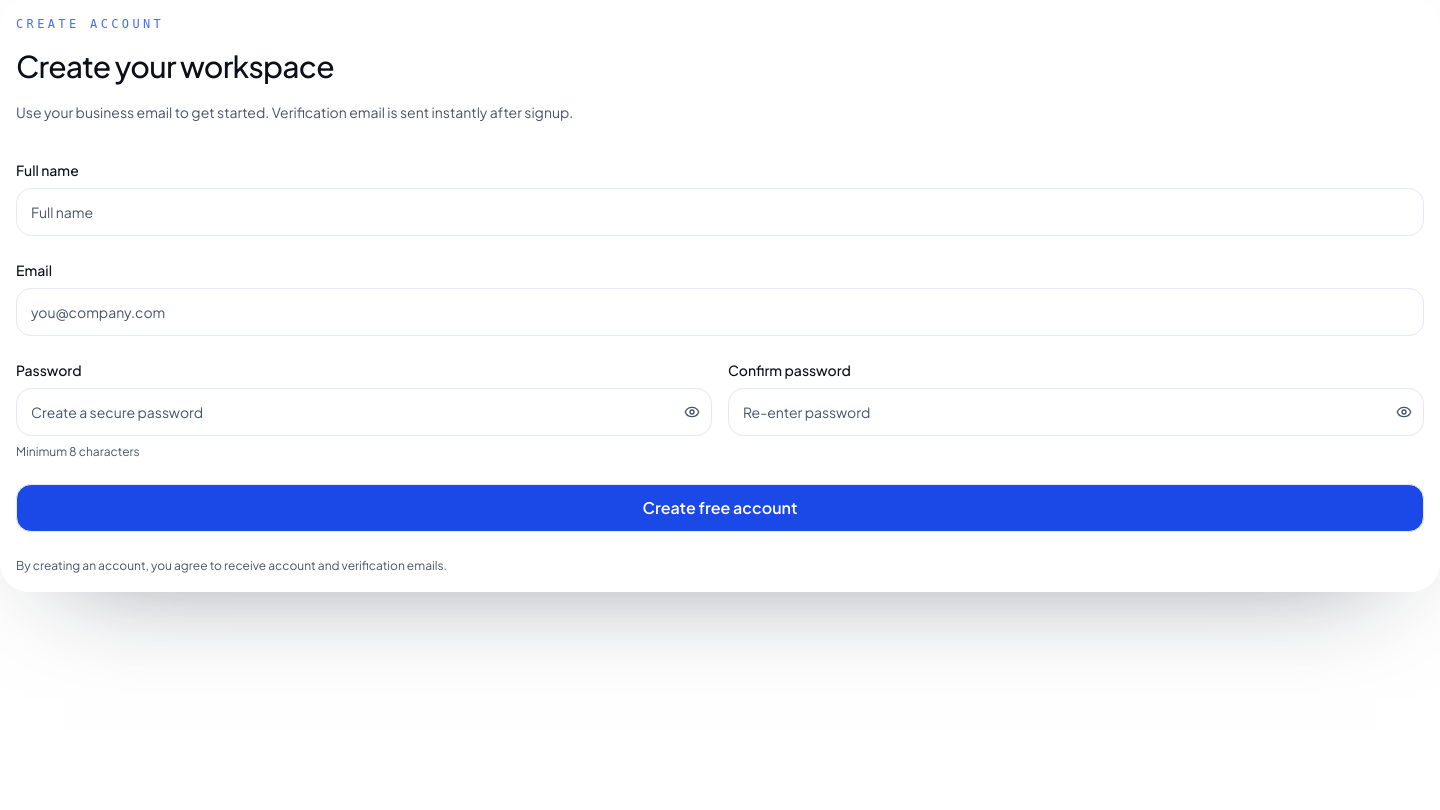
Test: Feature: User Registration › Scenario: Registration is blocked with a weak or incomplete password
The image size is (1440, 810).
Type "Weak Password" into the field labelled "Full name" at (720,212), box x1=16 y1=188 x2=1424 y2=236
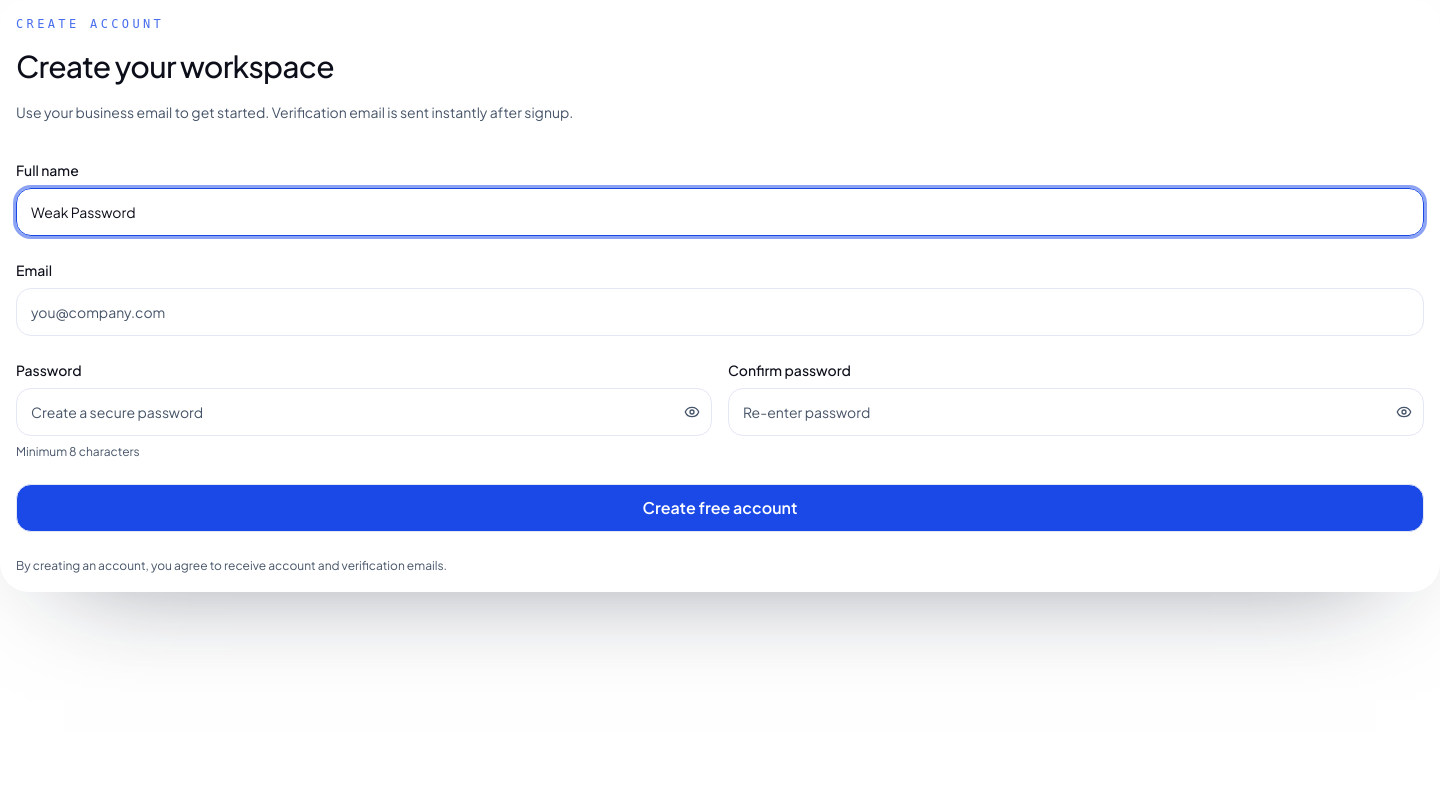
Type "weak@example.com" into the field labelled "Email" at (720,312), box x1=16 y1=288 x2=1424 y2=336
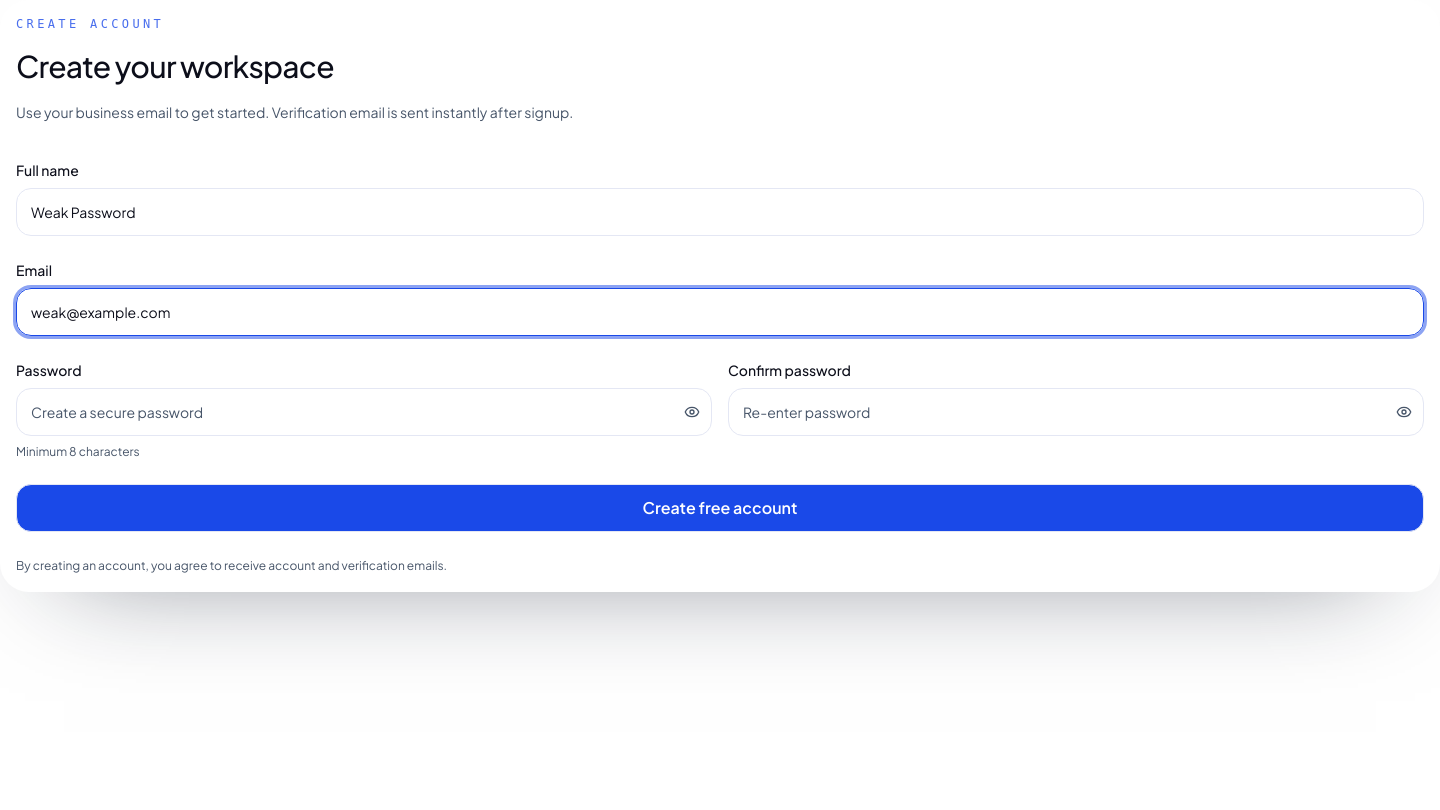
Type "weak" into the password field labelled "Password" at (364,412), box x1=16 y1=388 x2=712 y2=436
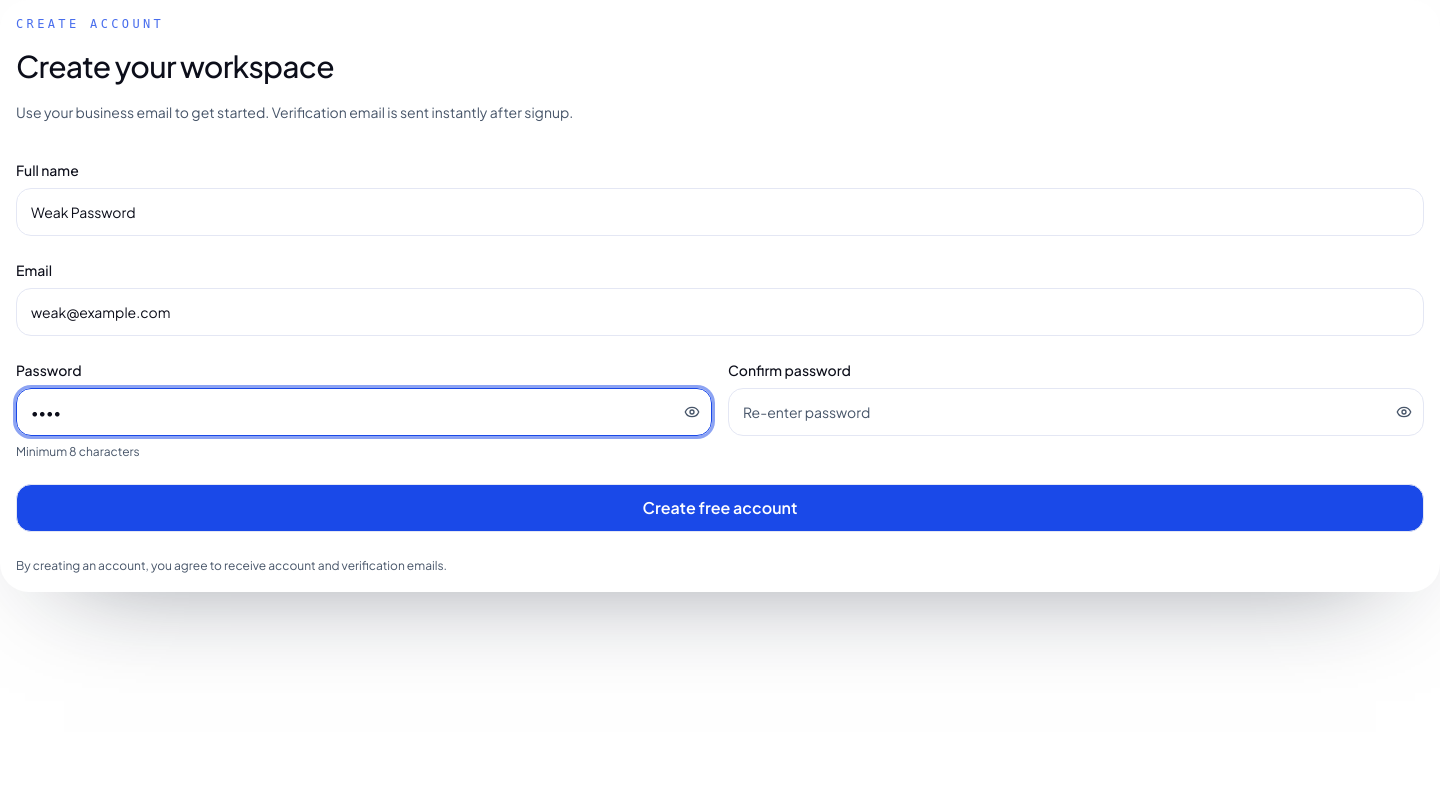
Type "weak" into the password field labelled "Confirm password" at (1076,412), box x1=728 y1=388 x2=1424 y2=436
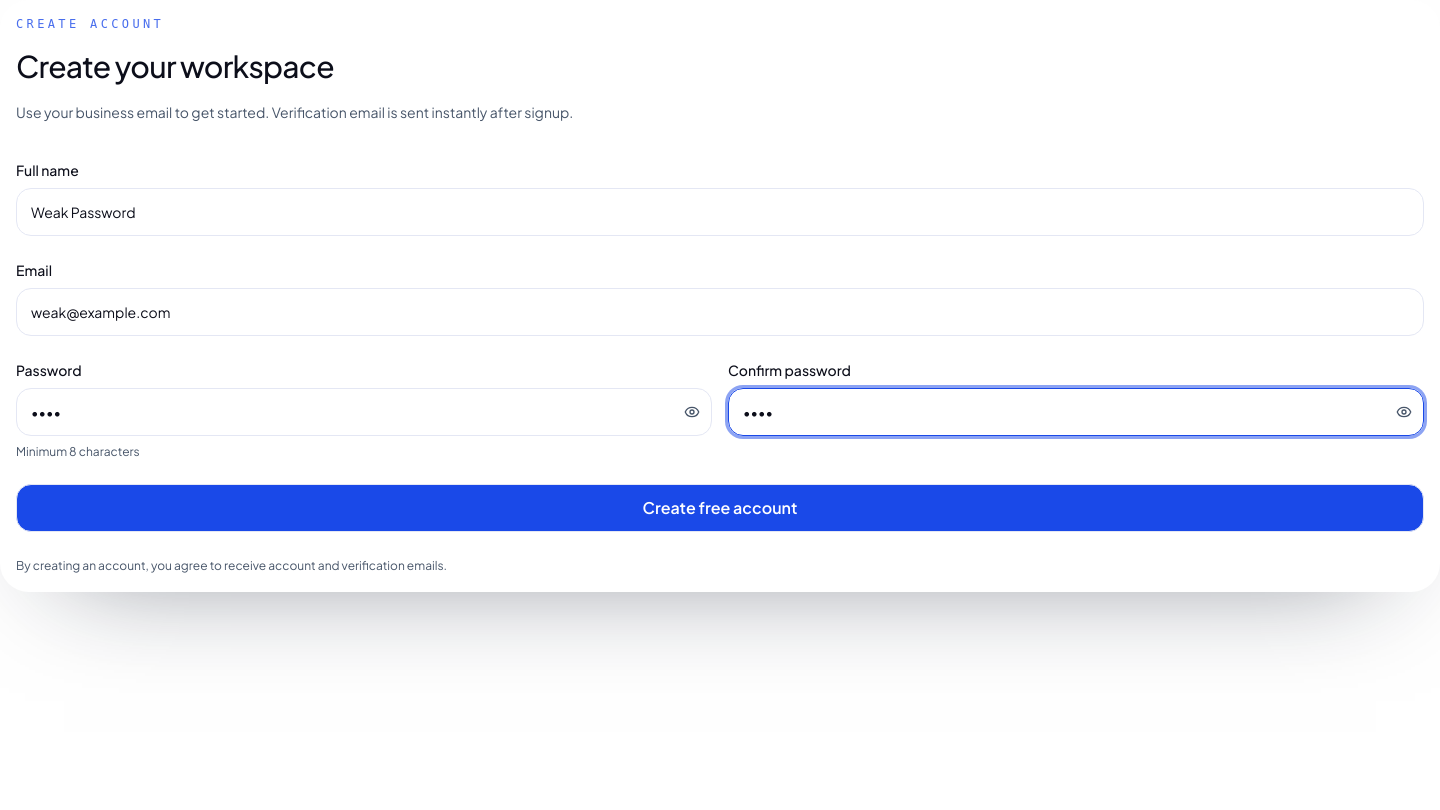
Click the button "Create free account" at (720,508), box x1=16 y1=484 x2=1424 y2=532
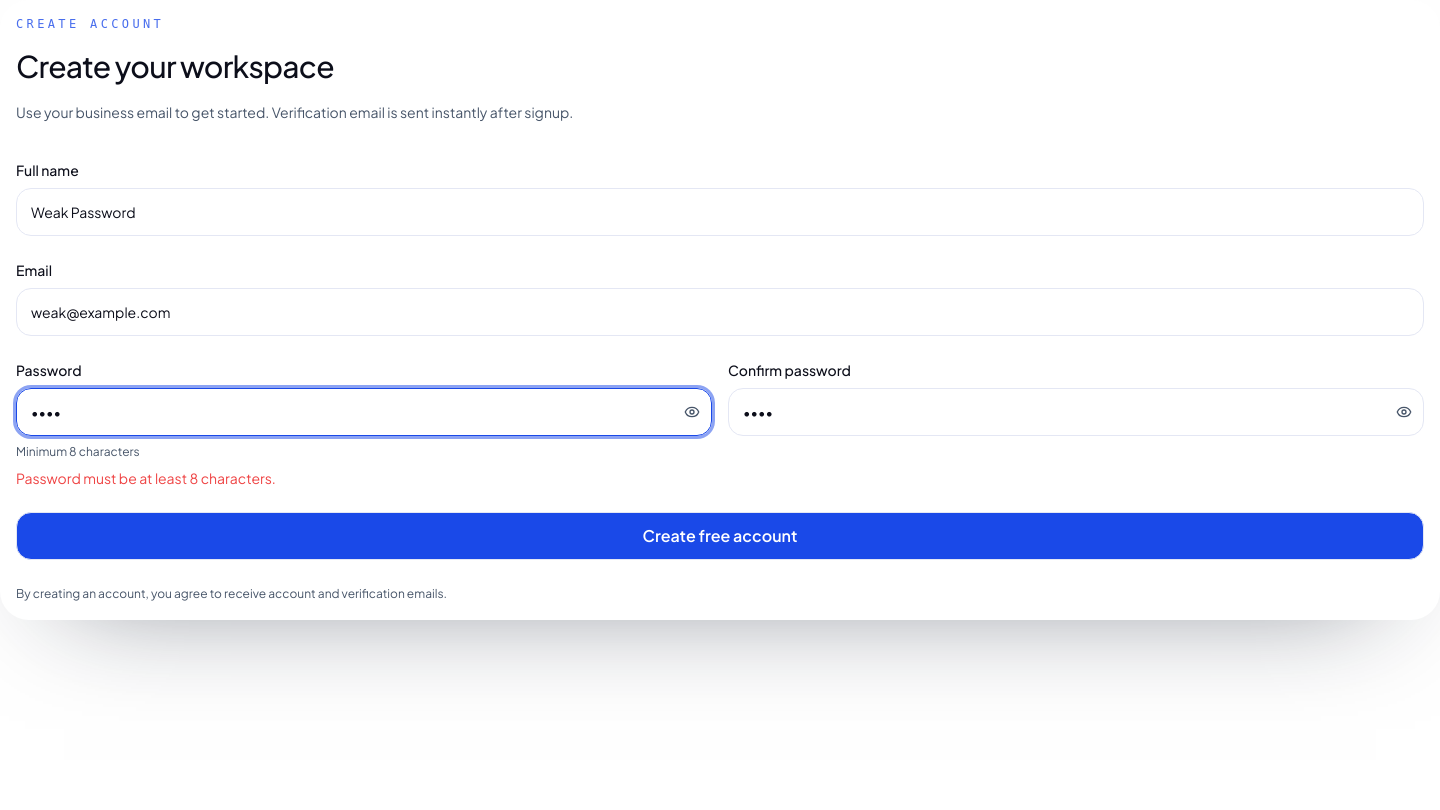
Result: the text "Password must be at least 8 characters." is shown at x1=16 y1=469 x2=276 y2=487
